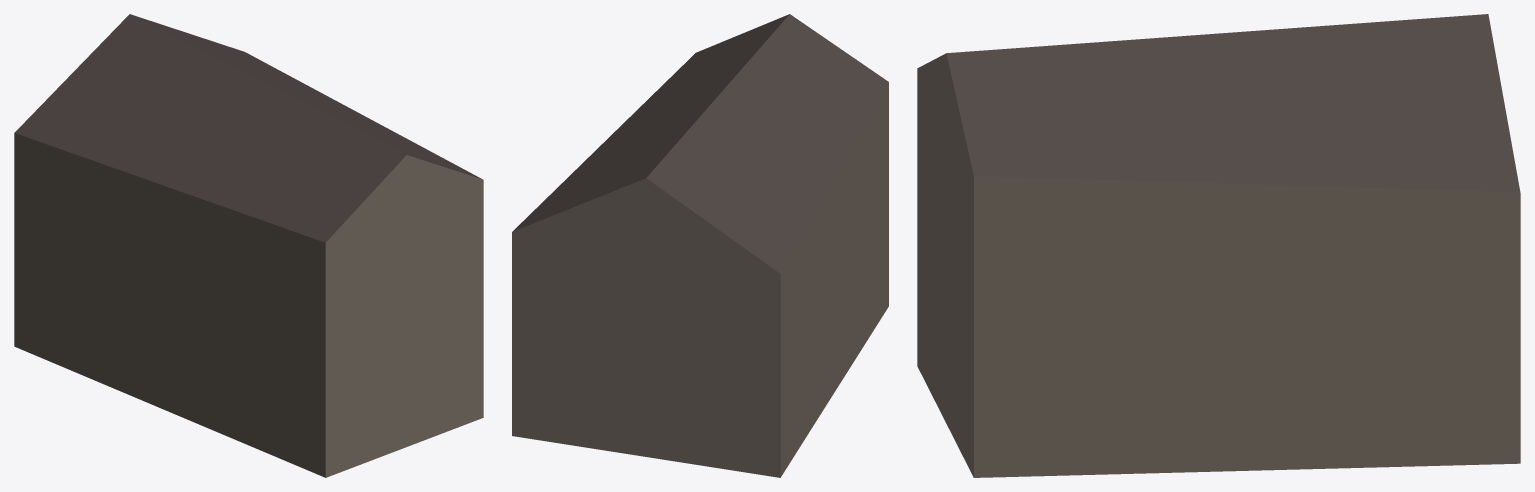
The picture shows the model from 3 angles, left to right: view 1: azimuth 30°, elevation 25°; view 2: azimuth 150°, elevation 25°; view 3: azimuth 270°, elevation 25°; orthographic projection. The views are drawn at different scales.
Visible parts, largest first — view 1: HP-w490656163; view 2: HP-w490656163; view 3: HP-w490656163.
Part boxes in pixels (bbox=[...]): HP-w490656163: bbox=[14, 14, 483, 477]; HP-w490656163: bbox=[512, 14, 888, 477]; HP-w490656163: bbox=[917, 14, 1520, 477].
Bounding box in the file's own units: 8.19 × 8.2 × 12.1.
